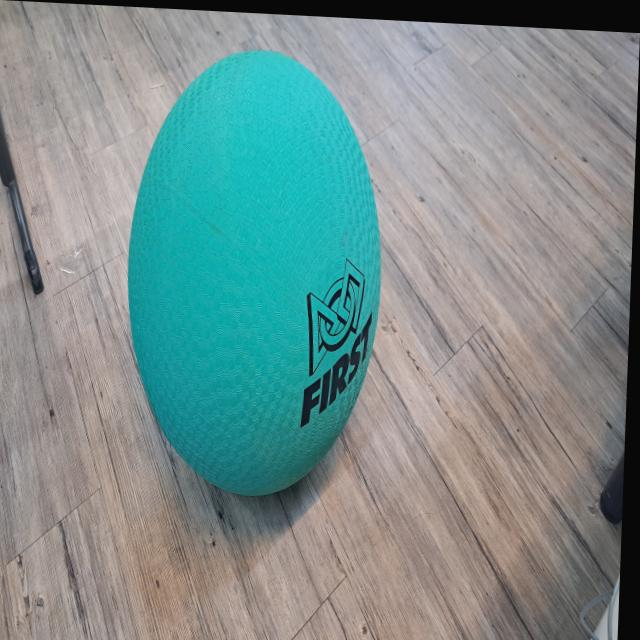ALGAE: (118, 41, 390, 504)
